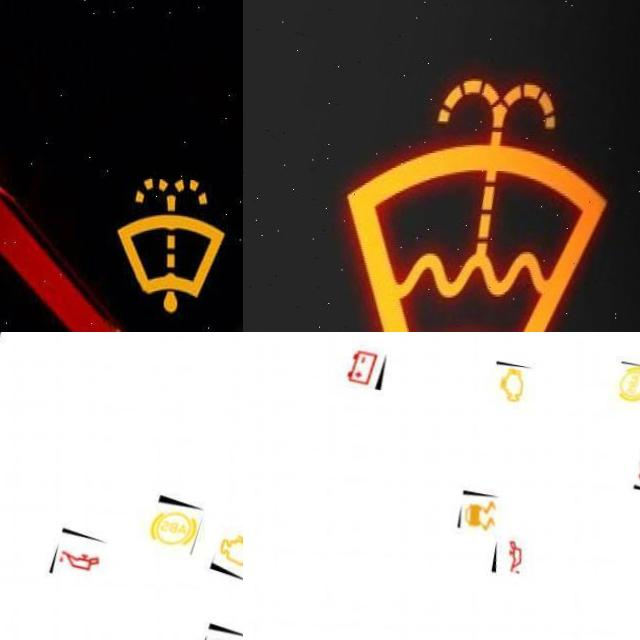Washer Fluid: (343, 74, 610, 332), (118, 173, 224, 312)
